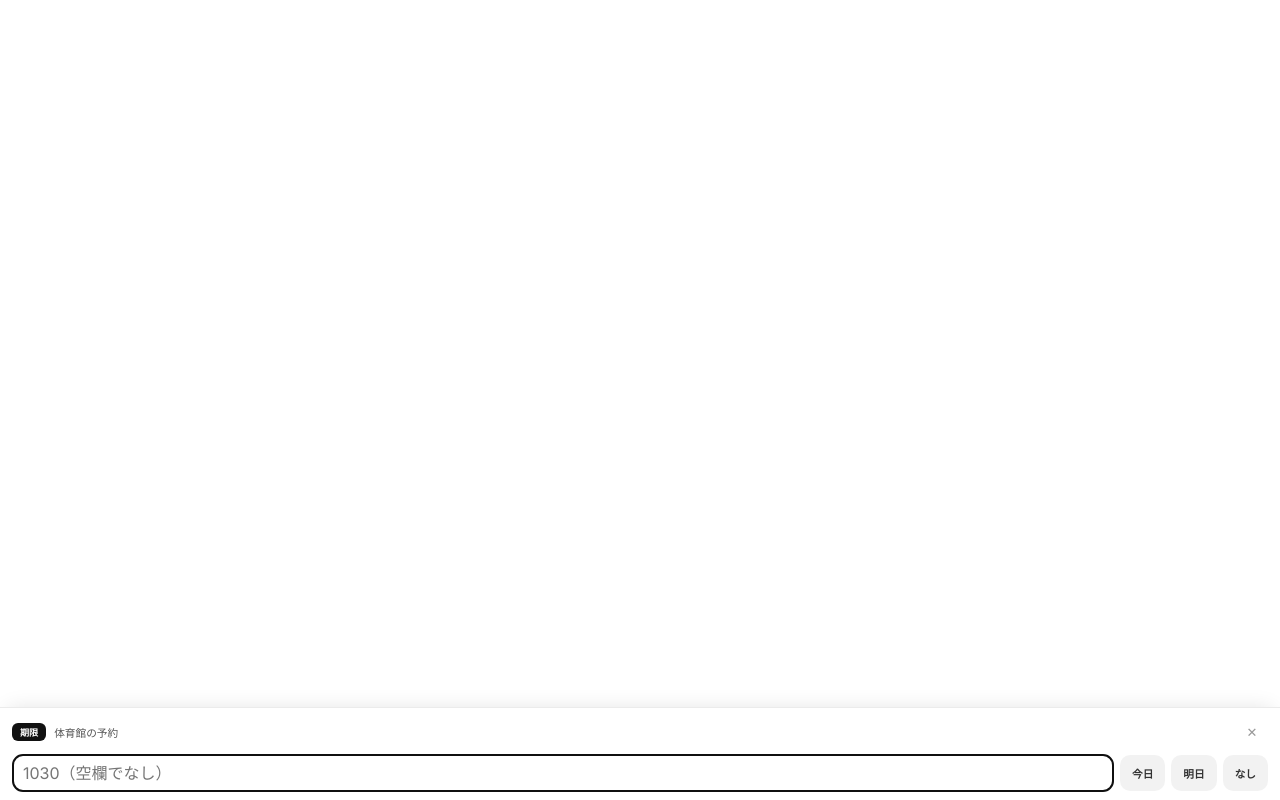
Test case: タスクの入力欄 › 読めない期限・時間は先へ進まずに知らせる
The width and height of the screenshot is (1280, 800).
In the field named "期限": [563, 773] box [12,754,1114,792], type "13月"
Then press Enter
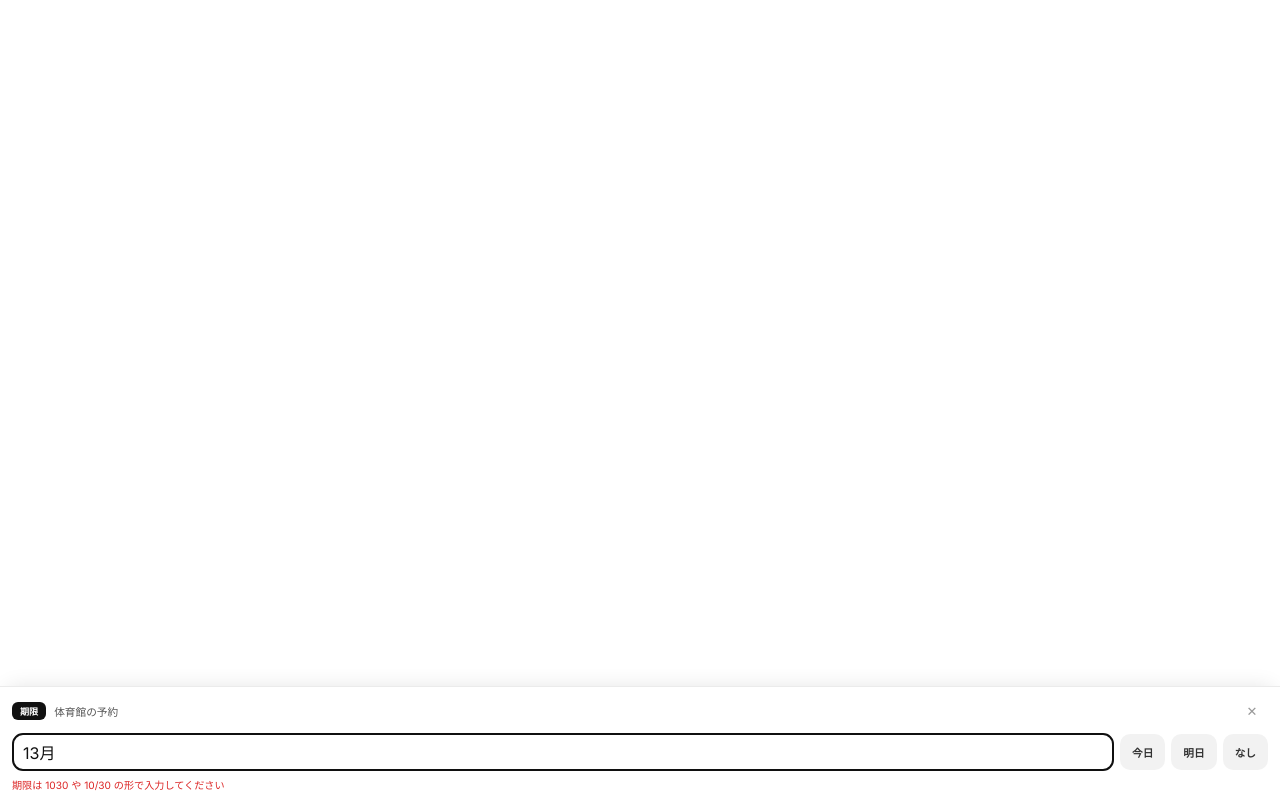
Result: the message shows "1030 や 10/30" at [12,779,225,791]
Replace the text in the field named "期限" with "10/30": [563, 752] box [12,733,1114,771]
Then press Enter
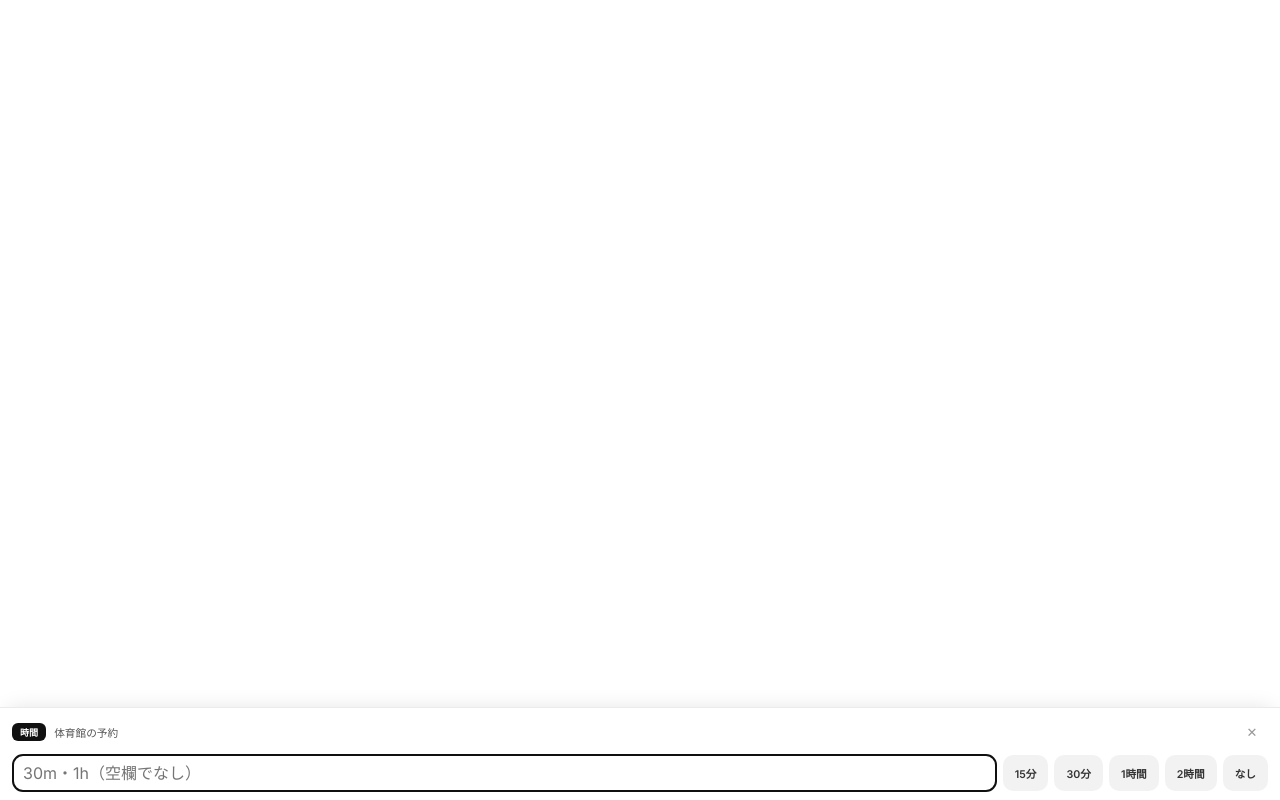
In the field named "時間": [504, 773] box [12,754,997,792], type "すぐ"
Then press Enter
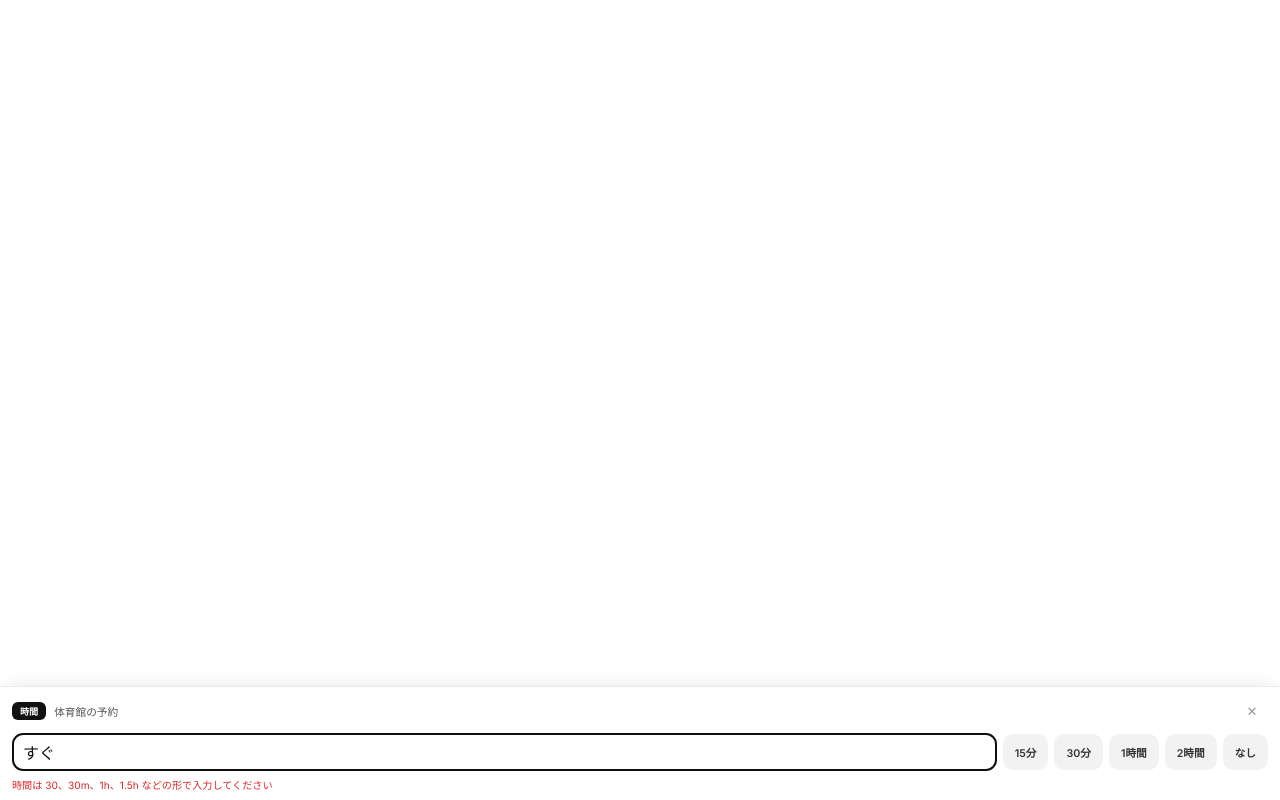
Result: the message shows "30m、1h" at [12,779,273,791]
